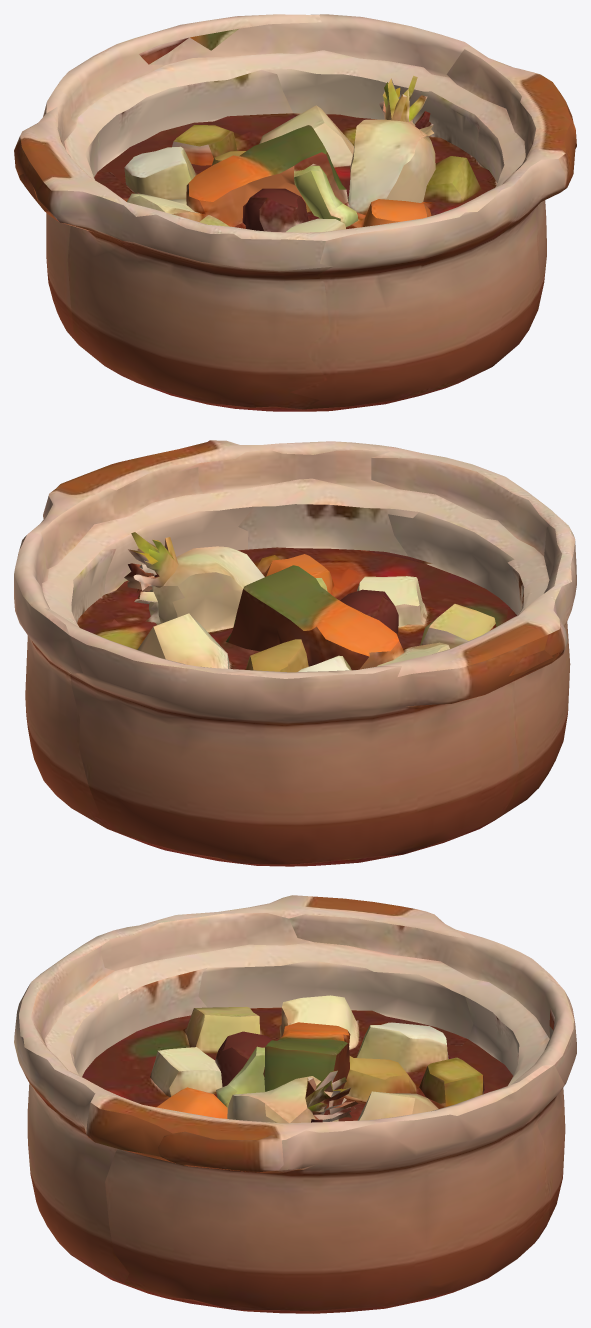
File: root_stew.glb
3 renders of one model, top to bottom at view 1: azimuth 30°, elevation 25°; view 2: azimuth 150°, elevation 25°; view 3: azimuth 270°, elevation 25°, orthographic. The views are drawn at different scales.
Visible parts, largest first — view 1: item_root_stew; view 2: item_root_stew; view 3: item_root_stew.
Boxes of the visible parts, left/top/right/bottom form: item_root_stew: left=14, top=14, right=576, bottom=411; item_root_stew: left=14, top=440, right=576, bottom=866; item_root_stew: left=14, top=895, right=576, bottom=1313.
Size of the model in its own units: 1 by 0.3802 by 0.9472.
Materials: 1 (1 with a texture image).
